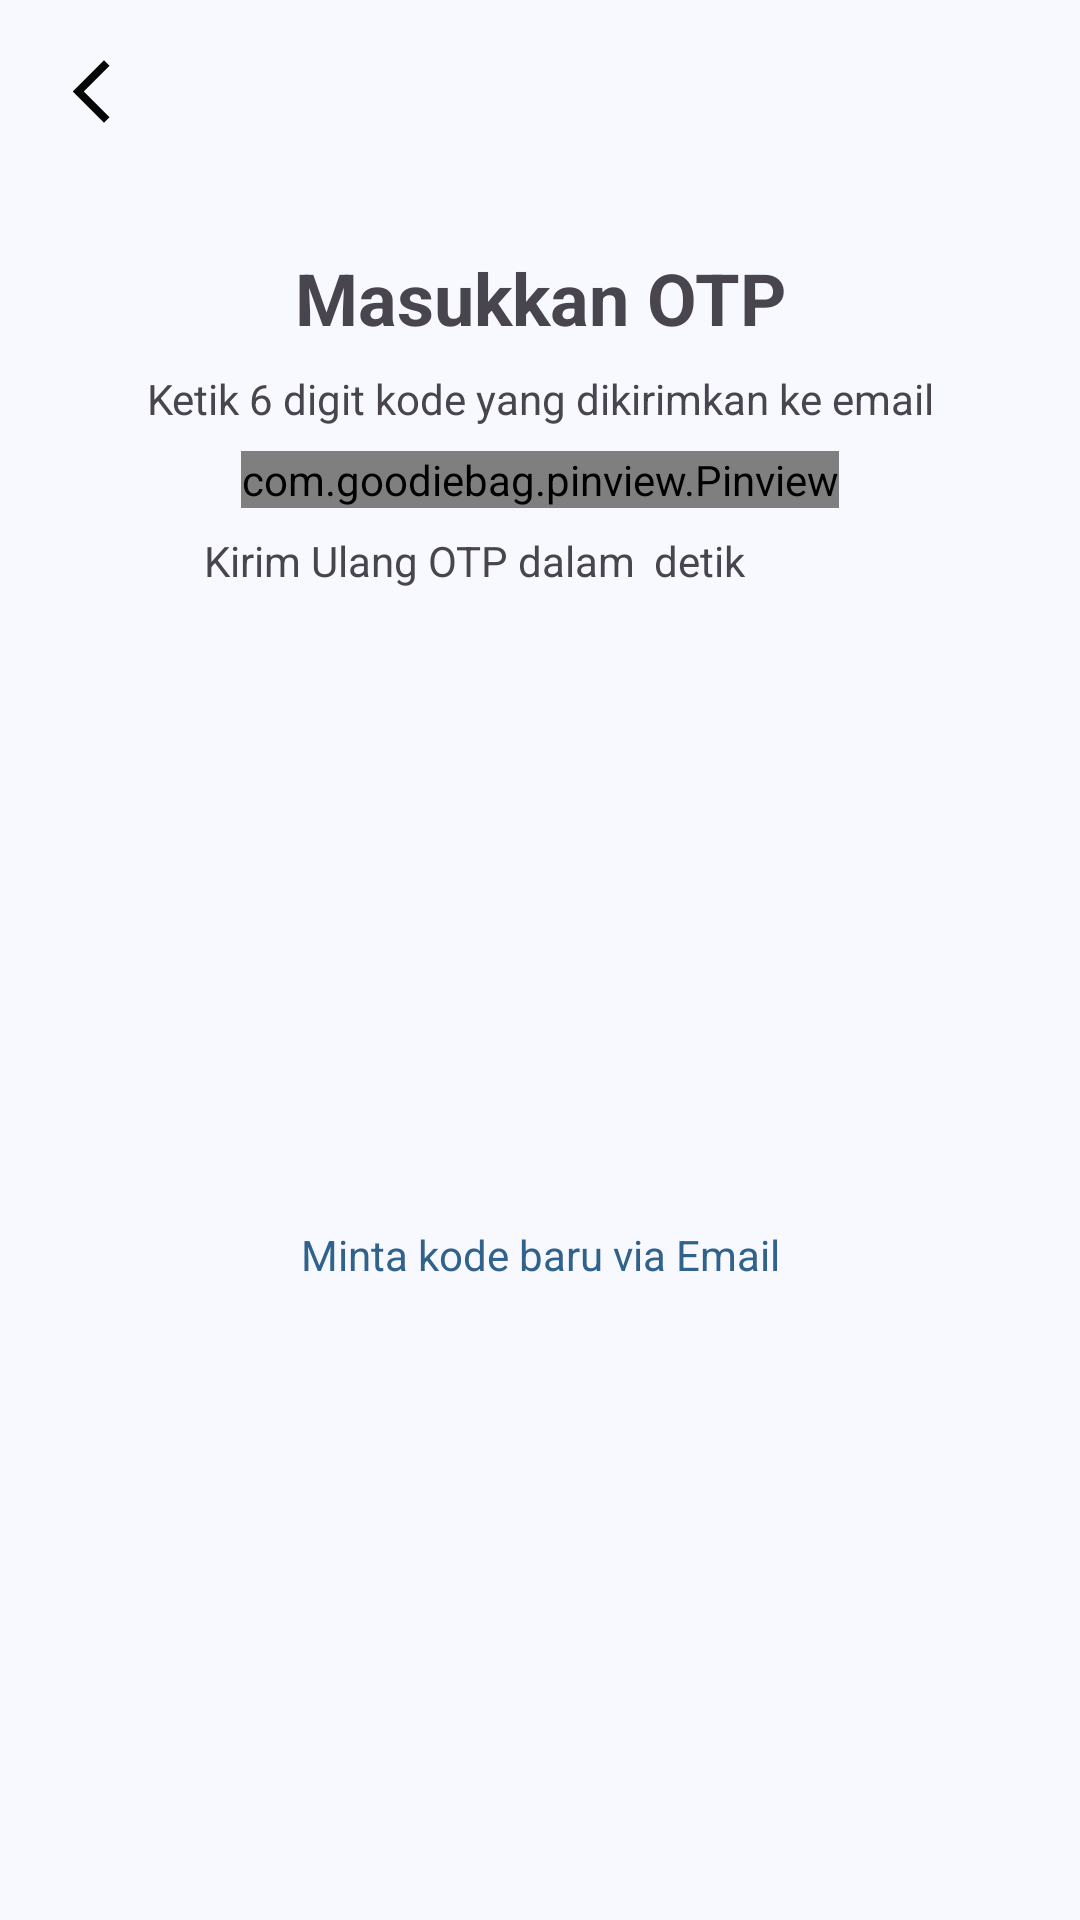

Icon bounding boxes for this 1080px x 1920px phone screenshot, format [x1, y1, x2, y2]:
back: [73, 60, 110, 123]
